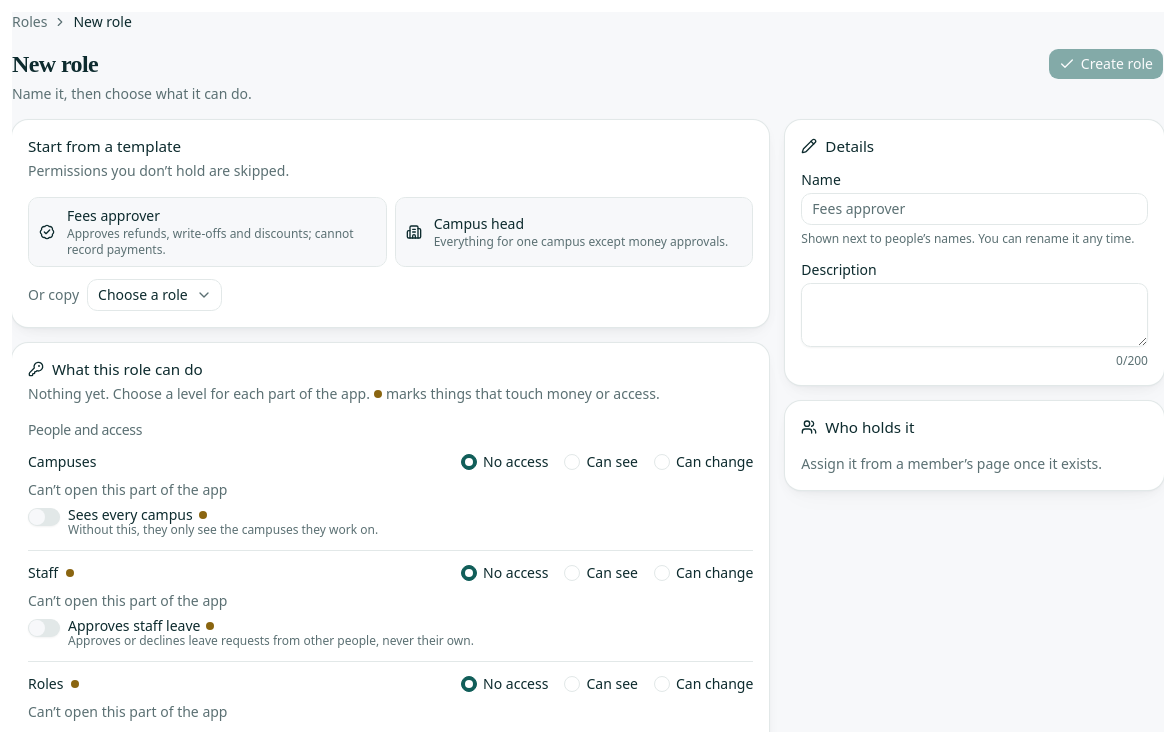
RolePage templates › overwrites a name that was already typed
This screenshot has width=1176, height=732.
Expected: the heading "New role" is shown, [12,51,98,77]
Type "Mine" into the field labelled "Name" at (975, 209), box [801,193,1148,225]
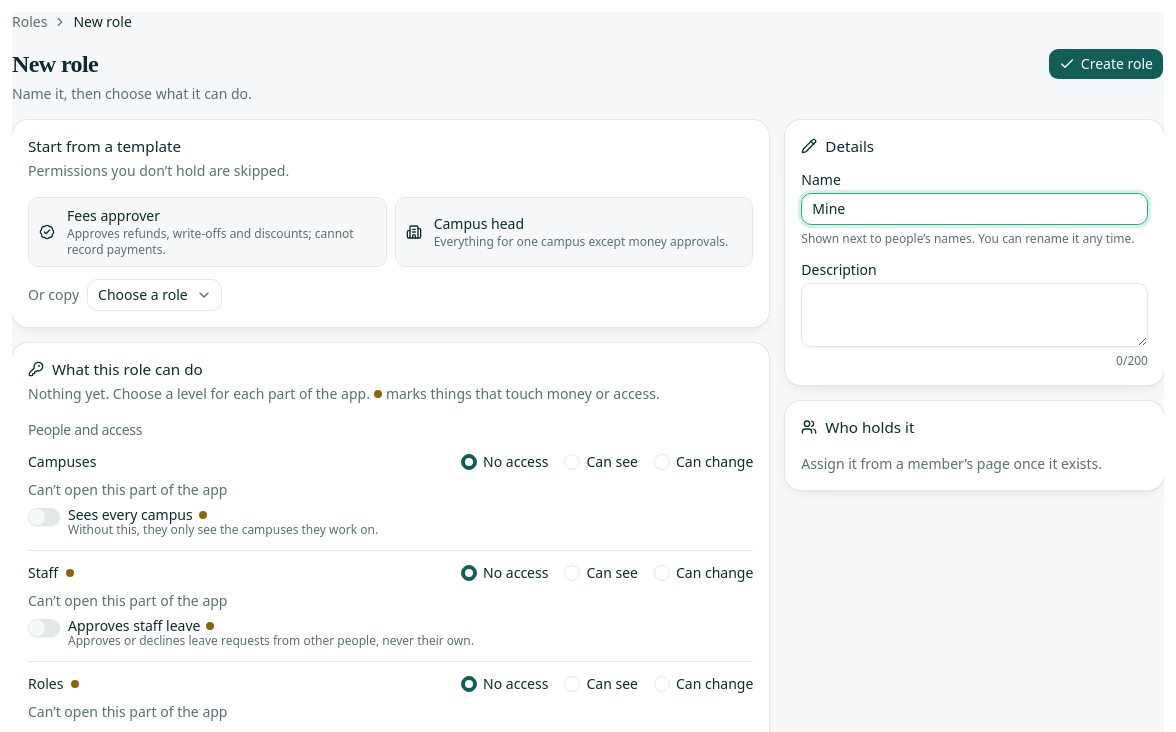
Click the button "Fees approver" at (207, 232), box [28,197,387,267]
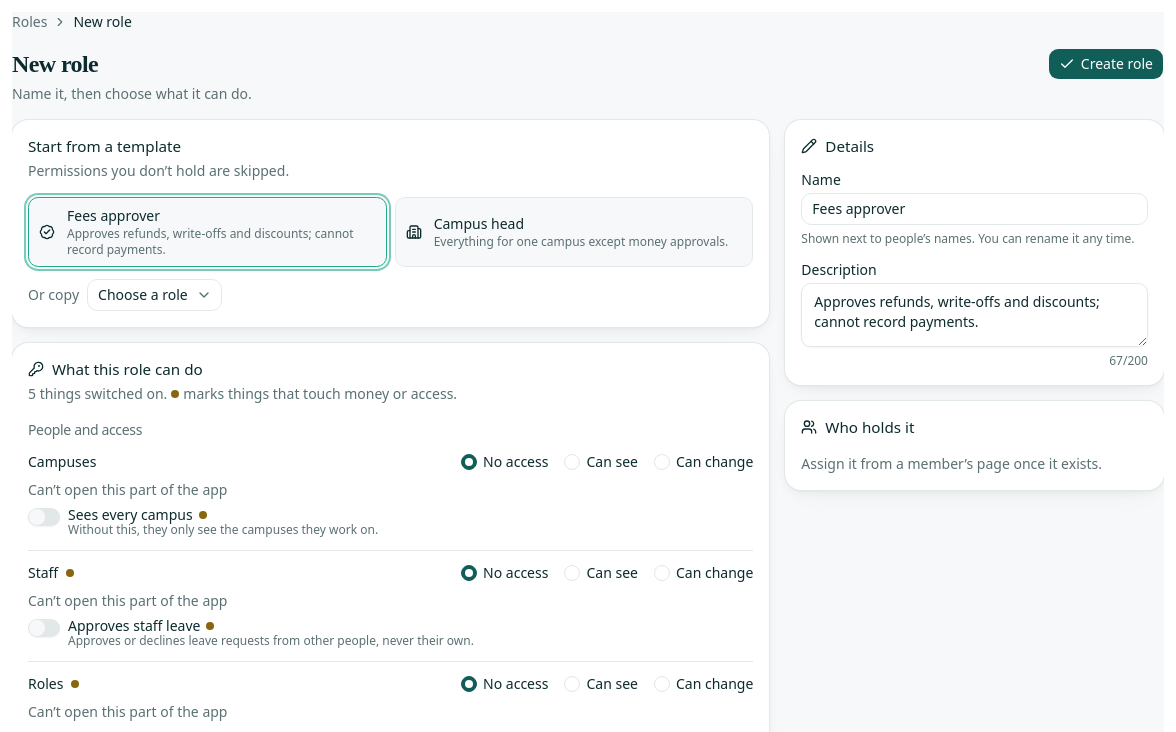
Expected: the field labelled "Name" holds "Fees approver", [801,193,1148,225]
